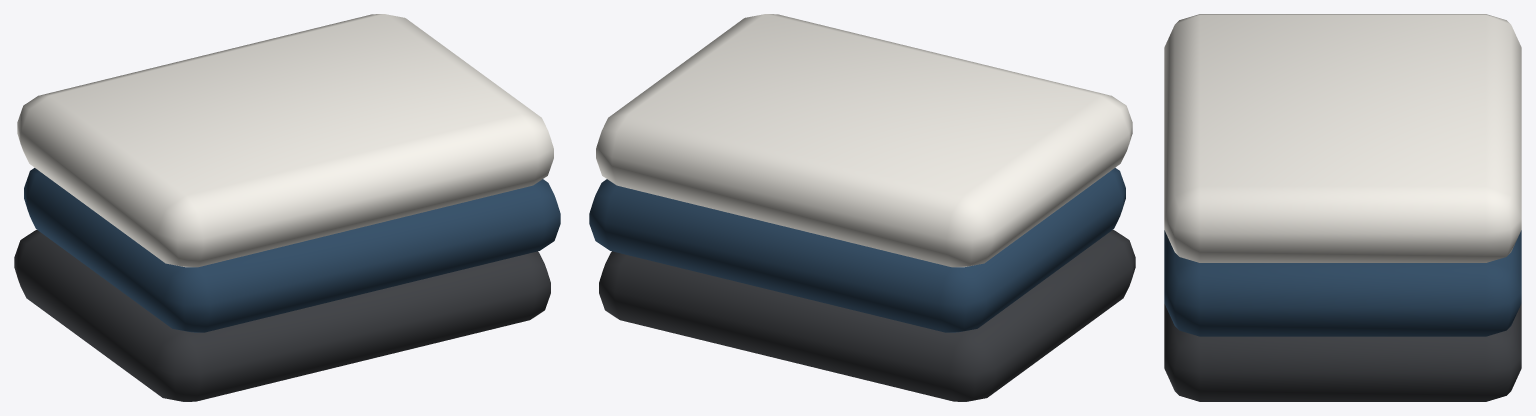
The model's file is i_plaid_2.glb.
3 renders of one model, left to right at view 1: azimuth 30°, elevation 25°; view 2: azimuth 150°, elevation 25°; view 3: azimuth 270°, elevation 25°, orthographic. The views are drawn at different scales.
Parts seen in each view (by area): view 1: o.002, o, o.001; view 2: o.002, o, o.001; view 3: o.002, o.001, o.
Part boxes in pixels (x1,y1,x2,y2): o.002: (17,14,553,267); o: (14,230,550,401); o.001: (24,168,560,332); o.002: (596,14,1132,267); o: (599,230,1135,401); o.001: (589,168,1125,332); o.002: (1164,14,1521,262); o.001: (1164,230,1521,336); o: (1164,304,1521,401).
Size of the model in its own units: 0.4098 by 0.2 by 0.3.
